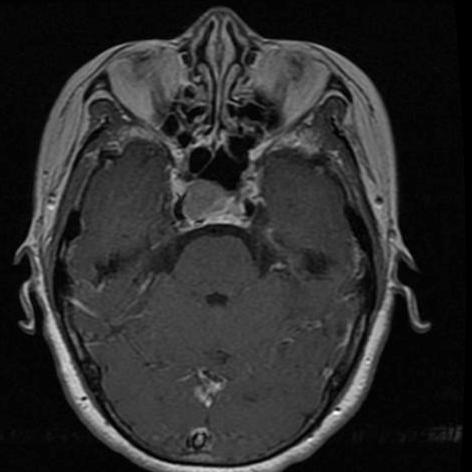Tumour-Pituitary: (169, 187, 255, 240)
